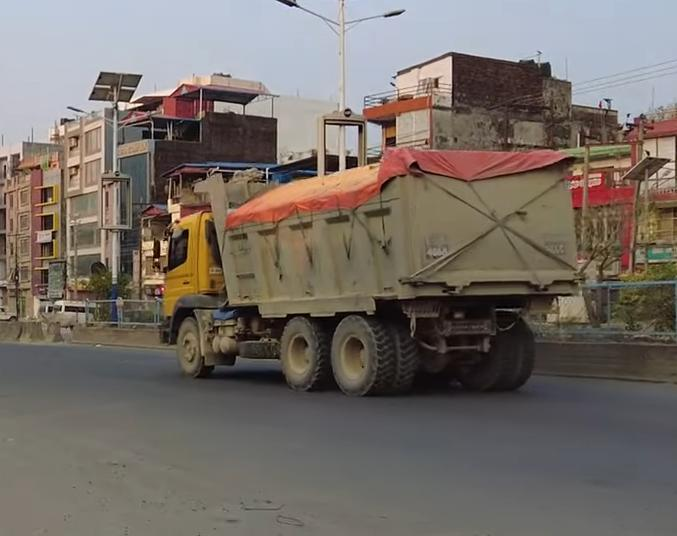truck: (158, 145, 586, 396)
